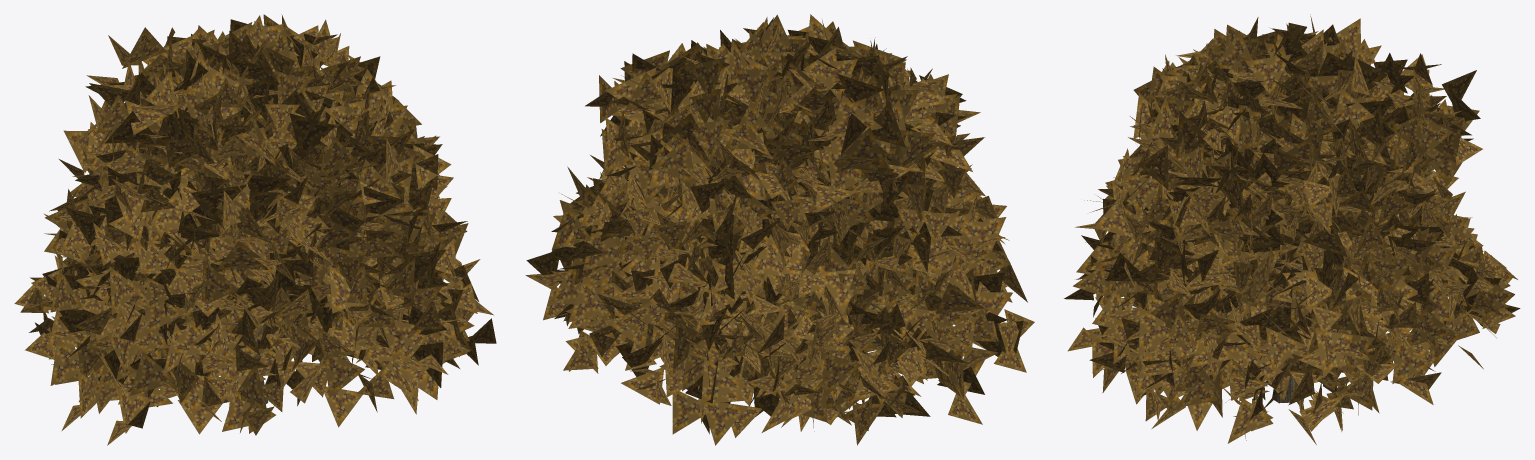
The model's file is Juglans_Regia_Autumn_Adult.glb.
3 views of the same model, side by side, from view 1: azimuth 30°, elevation 25°; view 2: azimuth 150°, elevation 25°; view 3: azimuth 270°, elevation 25° (orthographic). The views are drawn at different scales.
Visible parts, largest first — view 1: Juglans_Regia_Autumn_Adult__LOD3; view 2: Juglans_Regia_Autumn_Adult__LOD3; view 3: Juglans_Regia_Autumn_Adult__LOD3.
Part boxes in pixels (x1=…): Juglans_Regia_Autumn_Adult__LOD3: x1=14, y1=14, x2=496, y2=445; Juglans_Regia_Autumn_Adult__LOD3: x1=525, y1=14, x2=1034, y2=445; Juglans_Regia_Autumn_Adult__LOD3: x1=1064, y1=14, x2=1520, y2=444.
Bounding box in the file's own units: 12.95 × 11.23 × 12.76.
Materials: 2 (2 with a texture image).
